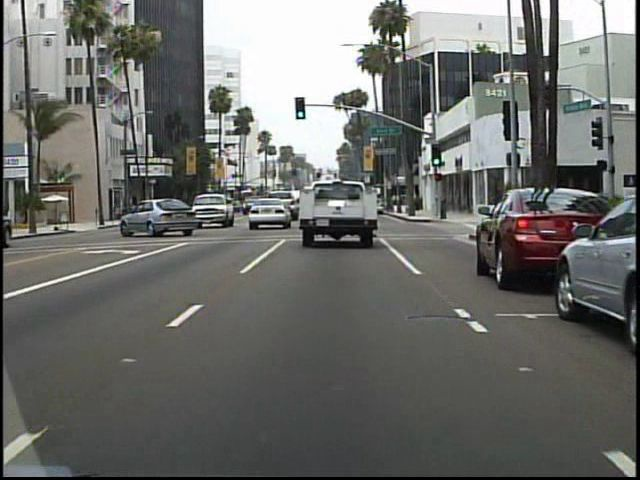person: (439, 186, 450, 220)
